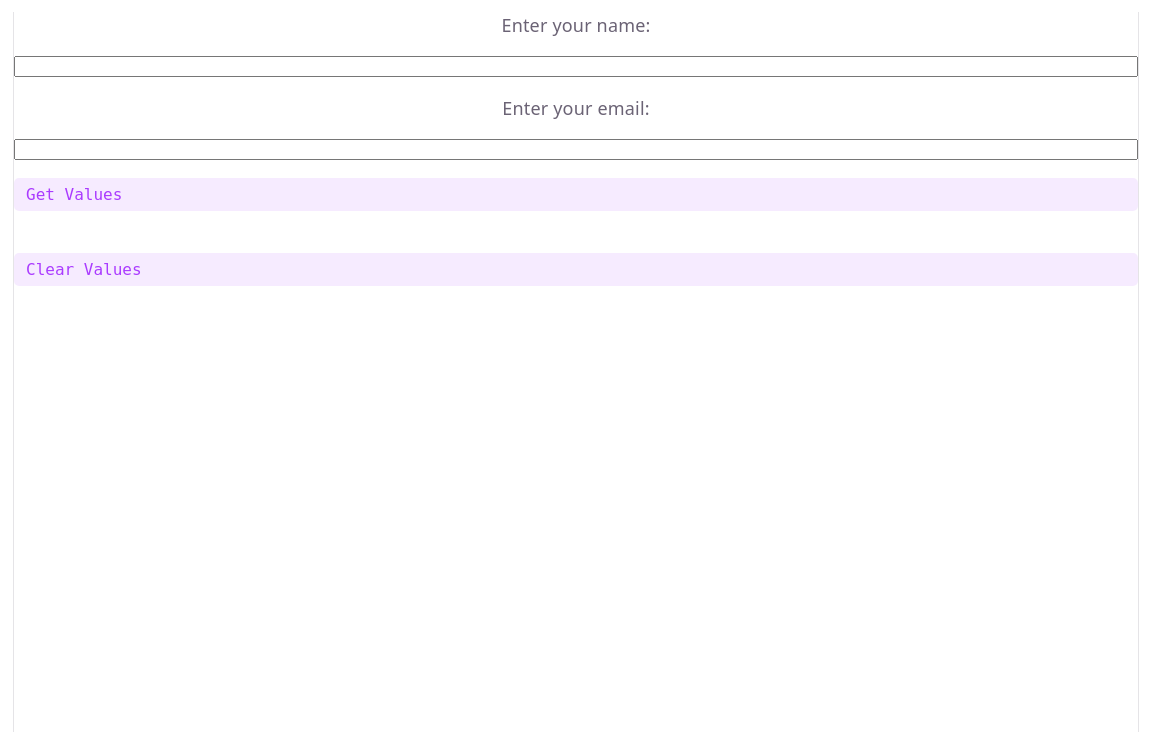
Test: Contact form › fill the form
Type "John" into the field labelled "Enter your name:".
click(576, 67); type("John")  # box [14, 56, 1138, 77]
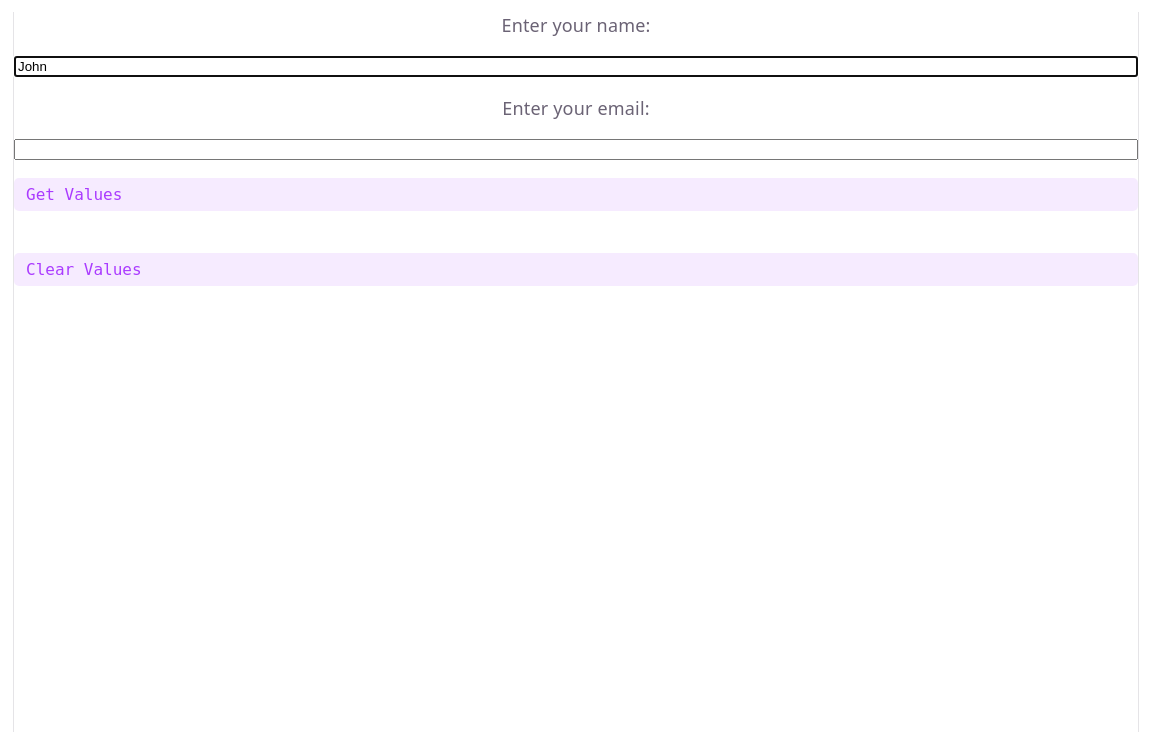
Type "sdsad@gmail.com" into the field labelled "Enter your email:".
click(576, 150); type("sdsad@gmail.com")  # box [14, 139, 1138, 160]
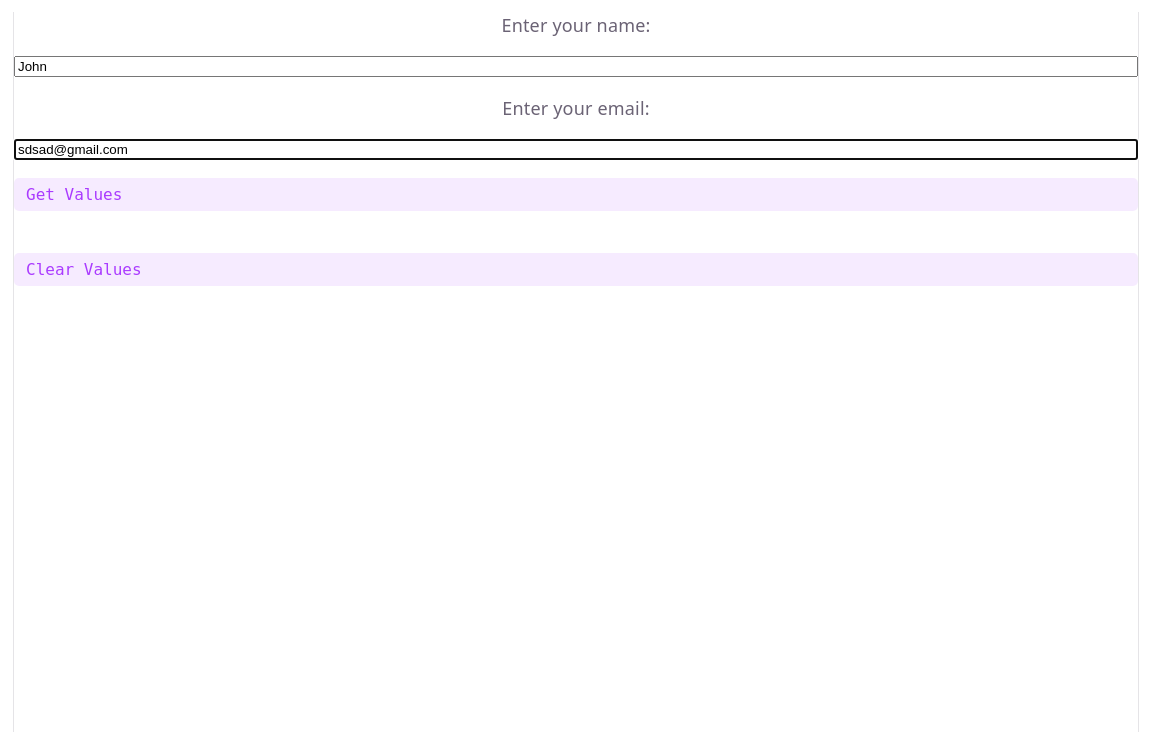
Click the button "Get Values".
click(74, 195)  # box [14, 178, 1138, 211]
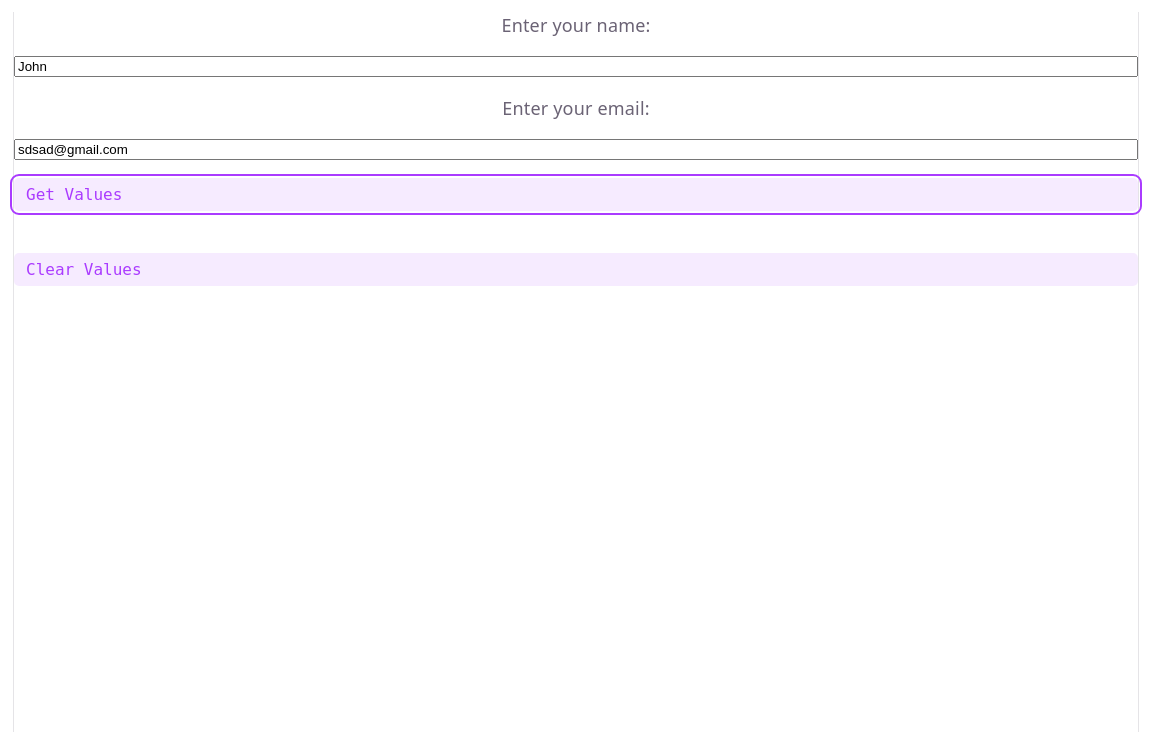
Click the button "Clear Values".
click(84, 270)  # box [14, 253, 1138, 286]
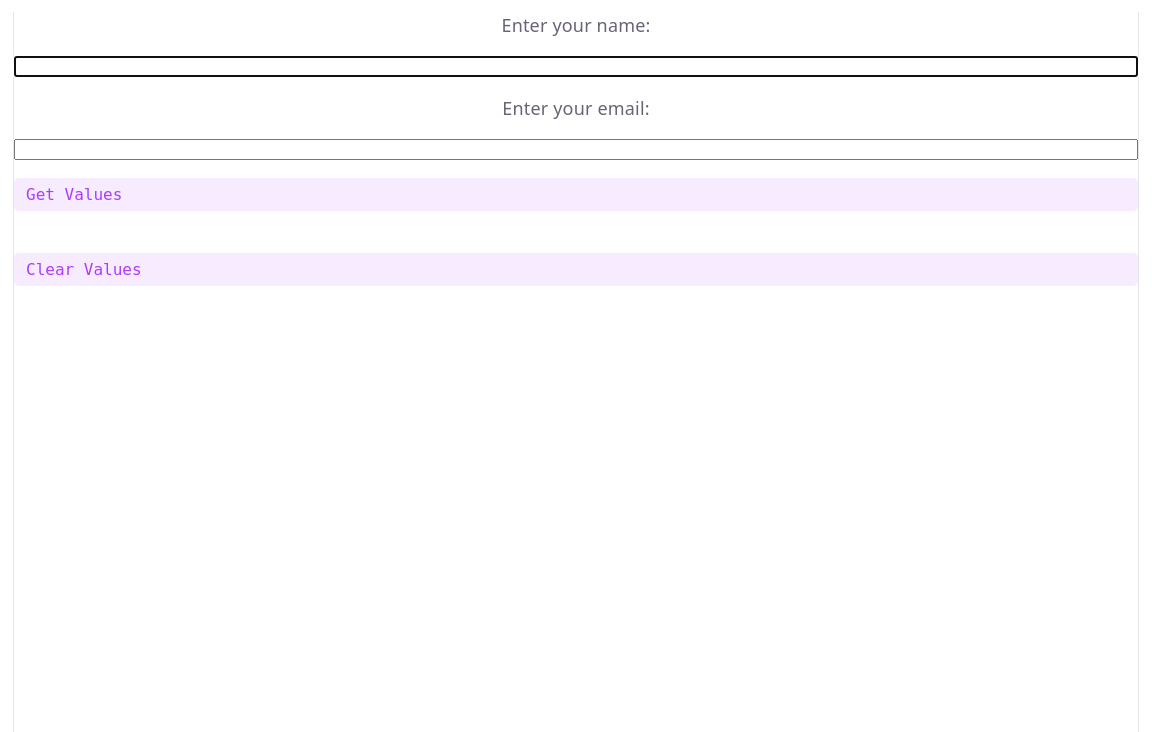
Expected: the field labelled "Enter your email:" is empty, [14, 139, 1138, 160]
Expected: the field labelled "Enter your name:" is empty, [14, 56, 1138, 77]
